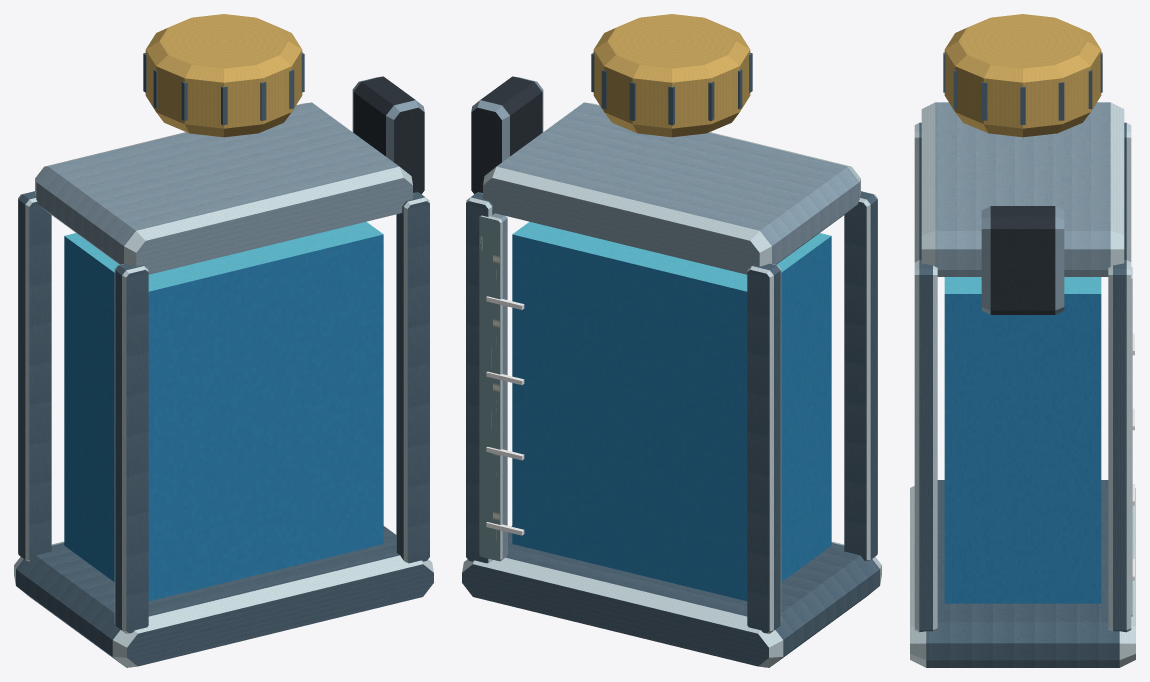
File: water_flask.obj
3 renders of one model, left to right at view 1: azimuth 30°, elevation 25°; view 2: azimuth 150°, elevation 25°; view 3: azimuth 270°, elevation 25°, orthographic.
Visible parts, largest first — view 1: water_flask; view 2: water_flask; view 3: water_flask.
Boxes of the visible parts, bbox=[...] form: water_flask: bbox=[14, 14, 433, 667]; water_flask: bbox=[462, 14, 881, 667]; water_flask: bbox=[910, 14, 1135, 667].
Bounding box in the file's own units: 0.5375 × 0.8312 × 0.3062.
